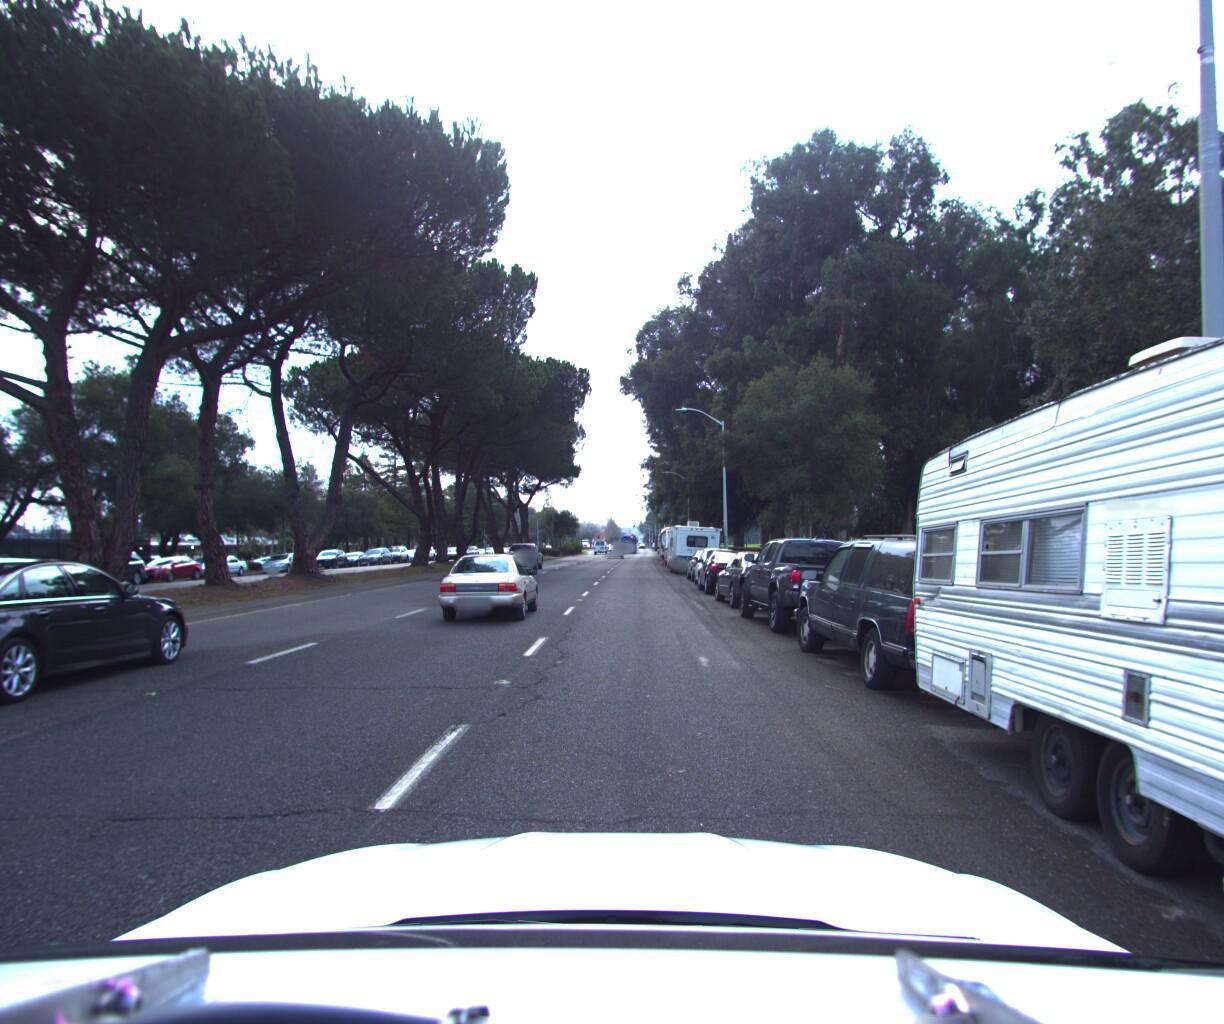car: (782, 515, 1123, 711), (0, 548, 208, 724), (729, 522, 894, 635), (431, 543, 548, 621), (706, 540, 809, 605), (45, 543, 152, 589), (693, 539, 762, 589), (128, 549, 209, 581), (690, 537, 743, 580), (0, 549, 39, 601), (182, 548, 252, 576), (683, 540, 735, 575), (255, 546, 310, 570), (504, 540, 545, 569), (307, 542, 351, 565), (356, 540, 395, 561), (333, 544, 373, 562), (379, 538, 411, 558)
other_vehicle: (872, 169, 1224, 1024), (663, 511, 724, 569), (660, 518, 701, 559), (656, 518, 687, 553)
